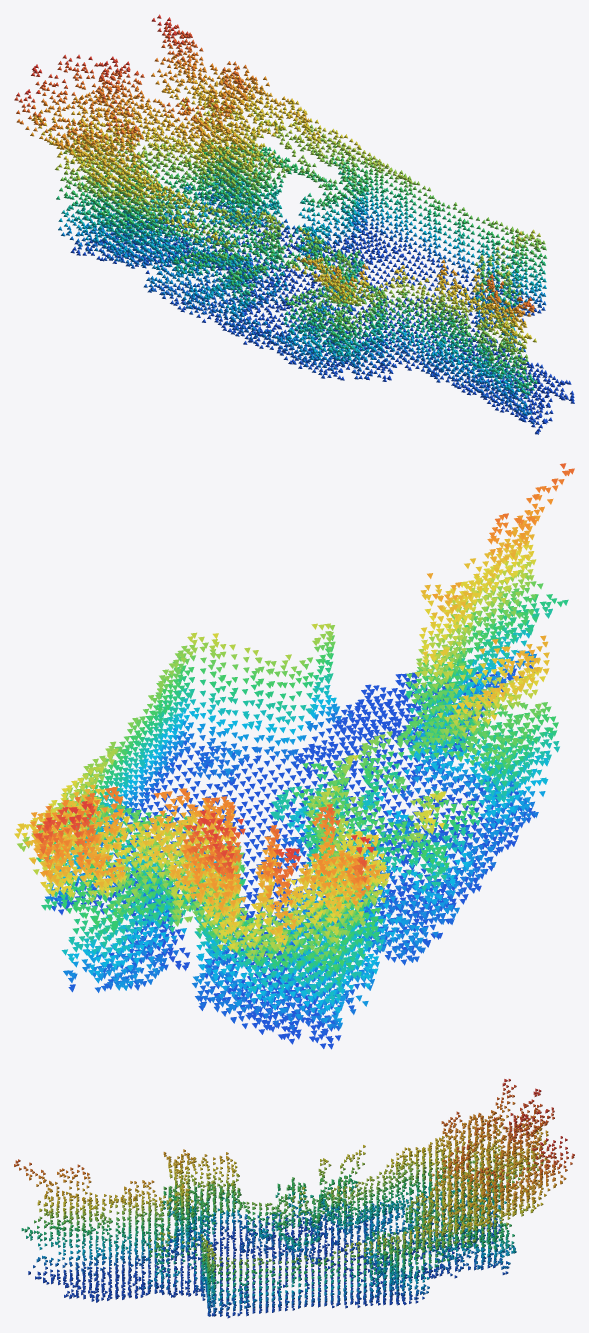
The model's file is room-exploration-50_splat.obj.
3 renders of one model, top to bottom at view 1: azimuth 30°, elevation 25°; view 2: azimuth 150°, elevation 25°; view 3: azimuth 270°, elevation 25°, orthographic. The views are drawn at different scales.
Size of the model in its own units: 4.46 by 2.21 by 8.59.
1 material, 1 textured.
